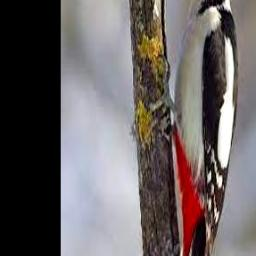Woodpecker: (155, 0, 239, 256)
